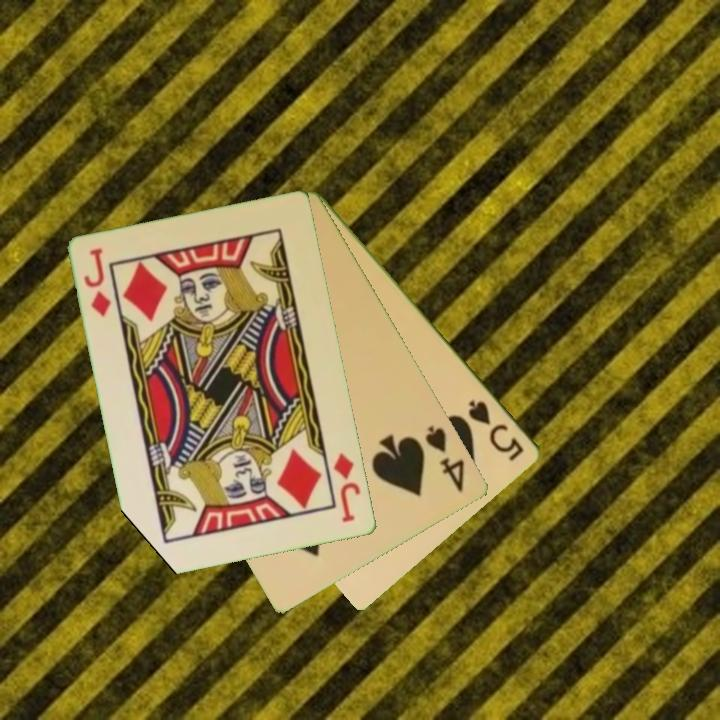4s: (422, 422, 469, 496)
5s: (465, 396, 528, 465)
Jd: (330, 449, 364, 525), (81, 245, 115, 320)
